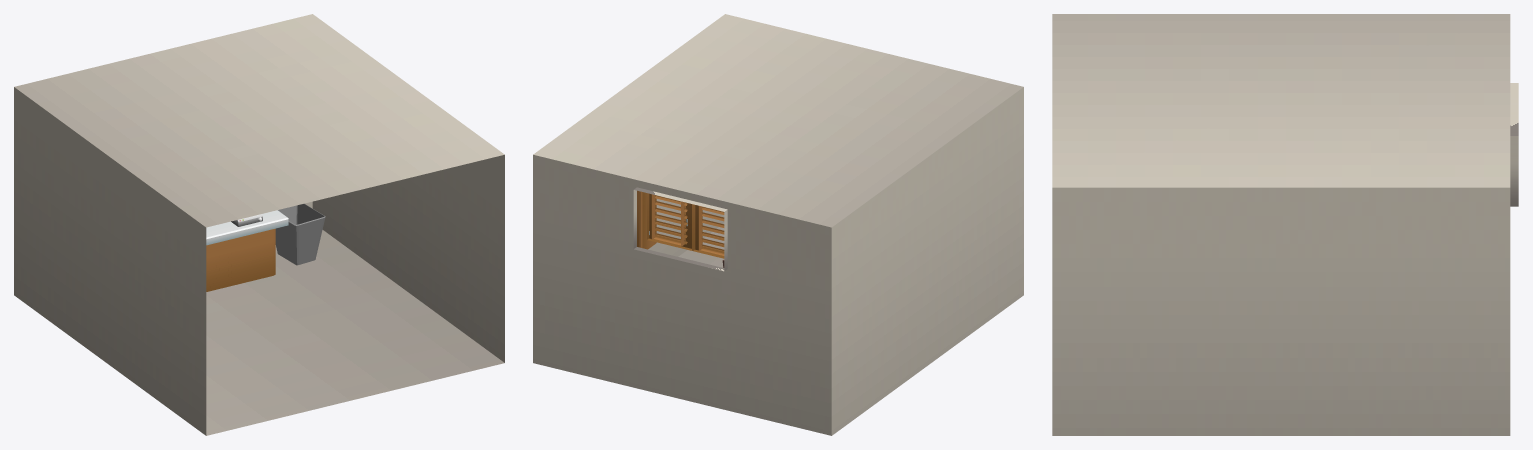
File: Kitchen.FBX
3 views of the same model, side by side, from view 1: azimuth 30°, elevation 25°; view 2: azimuth 150°, elevation 25°; view 3: azimuth 270°, elevation 25° (orthographic). The views are drawn at different scales.
Parts seen in each view (by area): view 1: Kitchen; view 2: Kitchen; view 3: Kitchen.
Part boxes in pixels (x1,y1,x2,y2): Kitchen: (14,14,504,435); Kitchen: (533,14,1023,435); Kitchen: (1052,14,1518,435).
Size of the model in its own units: 6 by 4.01 by 6.8.
11 materials, 10 textured.
